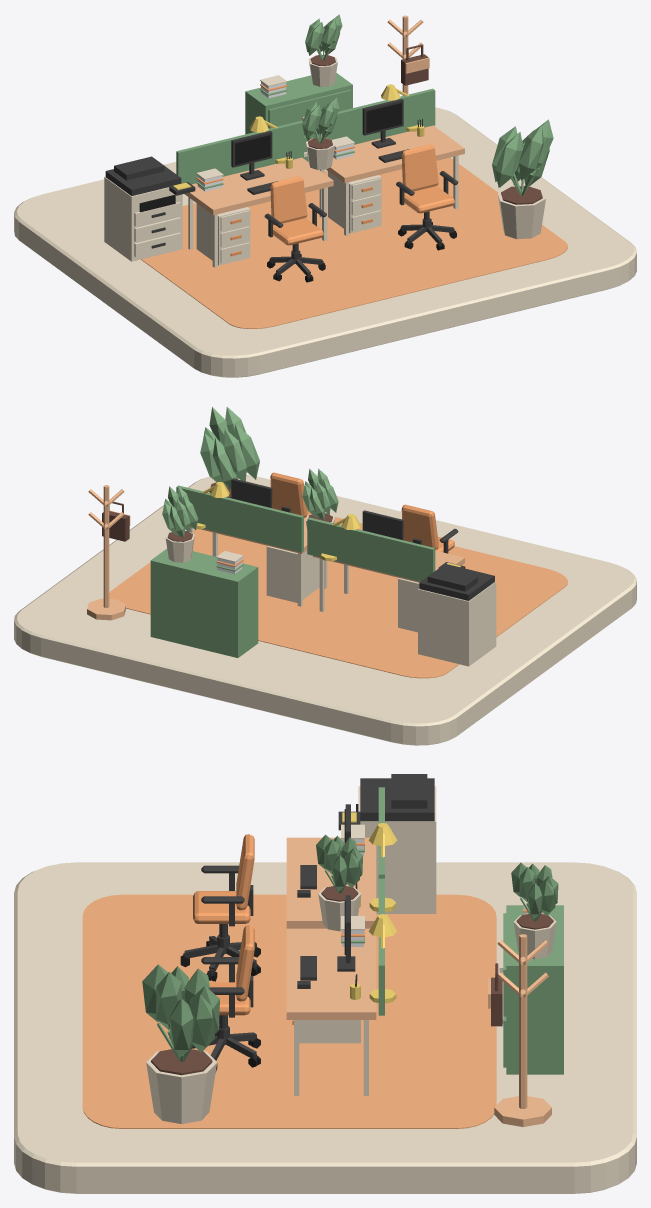
3 renders of one model, top to bottom at view 1: azimuth 30°, elevation 25°; view 2: azimuth 150°, elevation 25°; view 3: azimuth 270°, elevation 25°, orthographic. The views are drawn at different scales.
Visible parts, largest first — view 1: AST-001_0; view 2: AST-001_0; view 3: AST-001_0.
Part boxes in pixels (left/top/right/bottom): AST-001_0: left=14, top=14, right=636, bottom=377; AST-001_0: left=14, top=407, right=636, bottom=745; AST-001_0: left=14, top=774, right=636, bottom=1193.
Size of the model in its own units: 6 by 2.17 by 5.2.
Materials: 1 (1 with a texture image).
